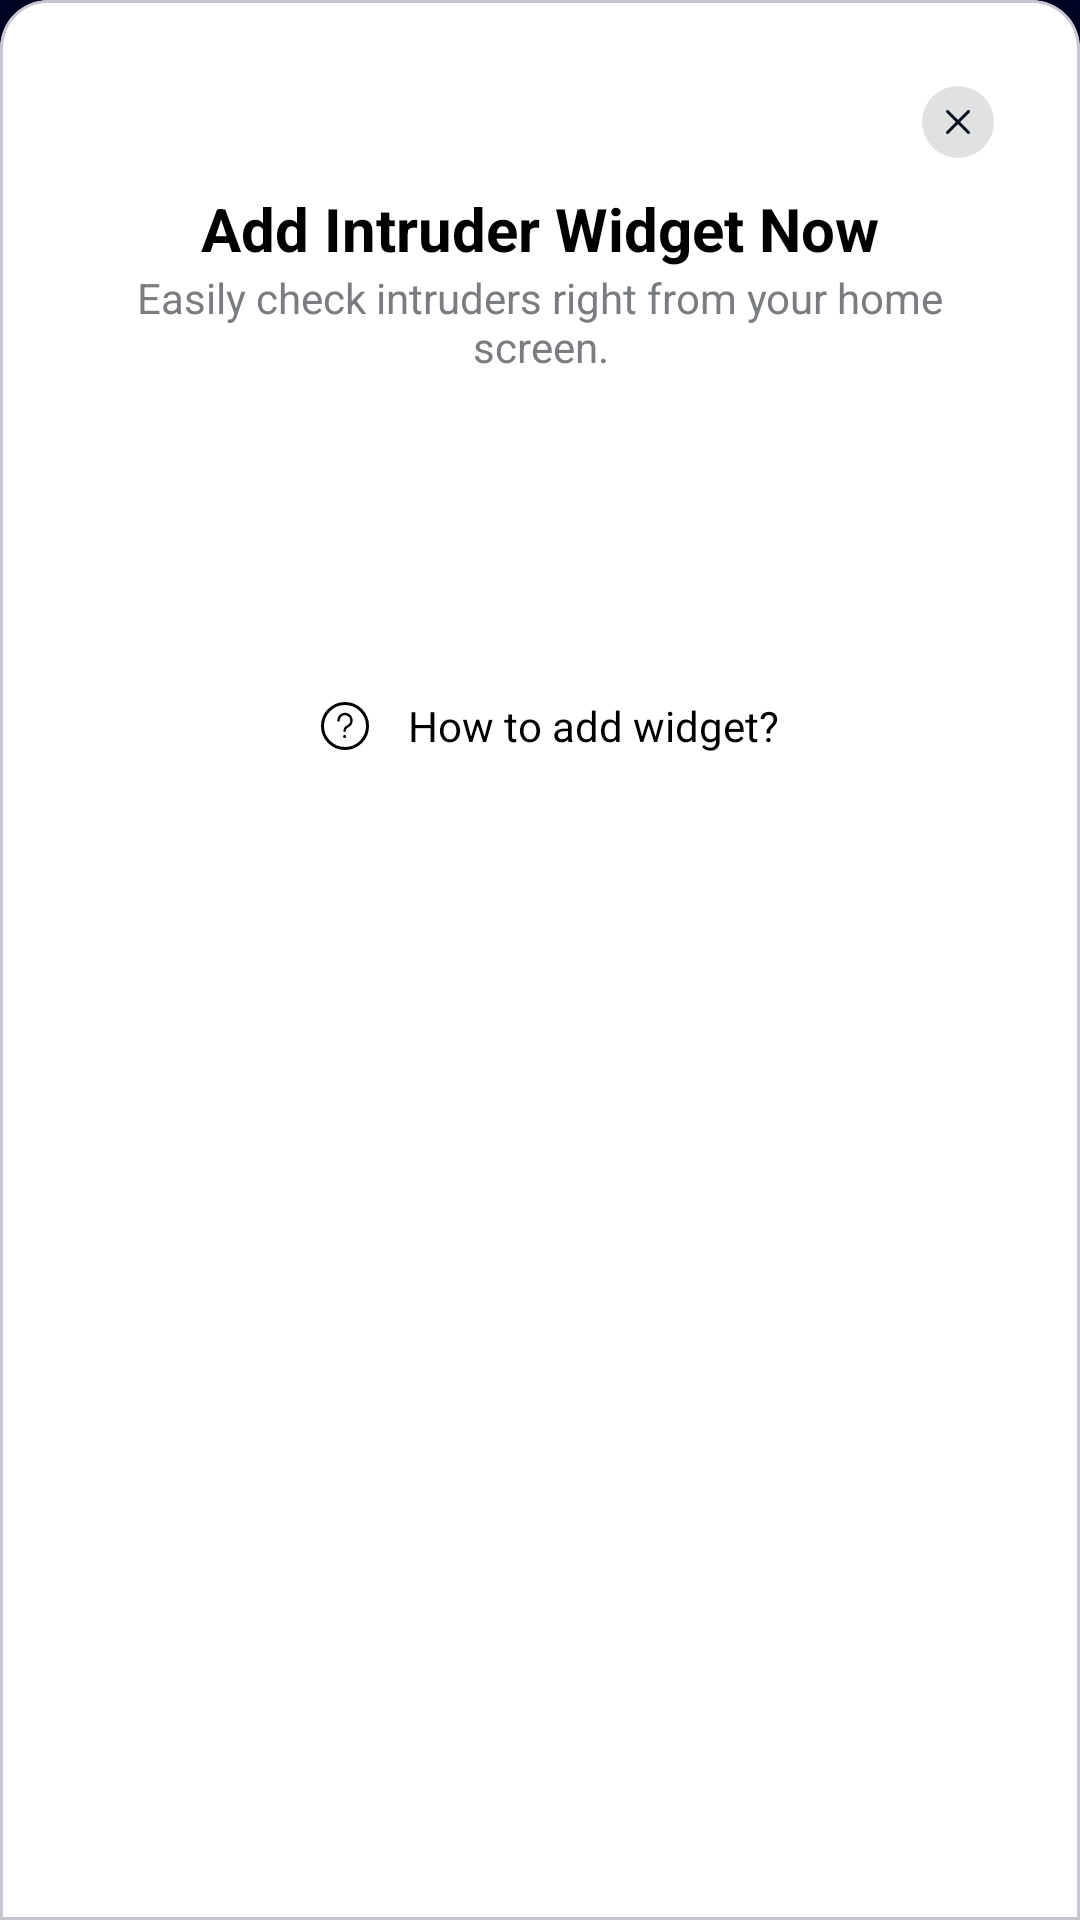

Screen size 1080×1920. Icon name, then its center in pixels as point (x, y):
close: point (958, 122)
